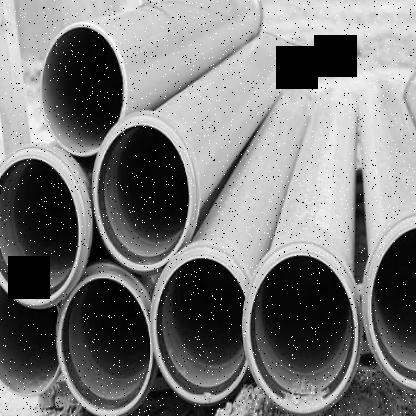pipe: (241, 249, 359, 416), (92, 116, 197, 272), (152, 255, 249, 404), (58, 273, 153, 416), (0, 147, 83, 310), (39, 23, 126, 155), (360, 216, 416, 393), (0, 283, 61, 396)
